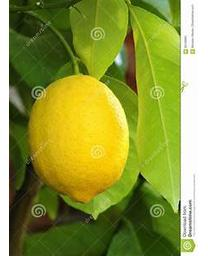lemon: (30, 75, 130, 204)
